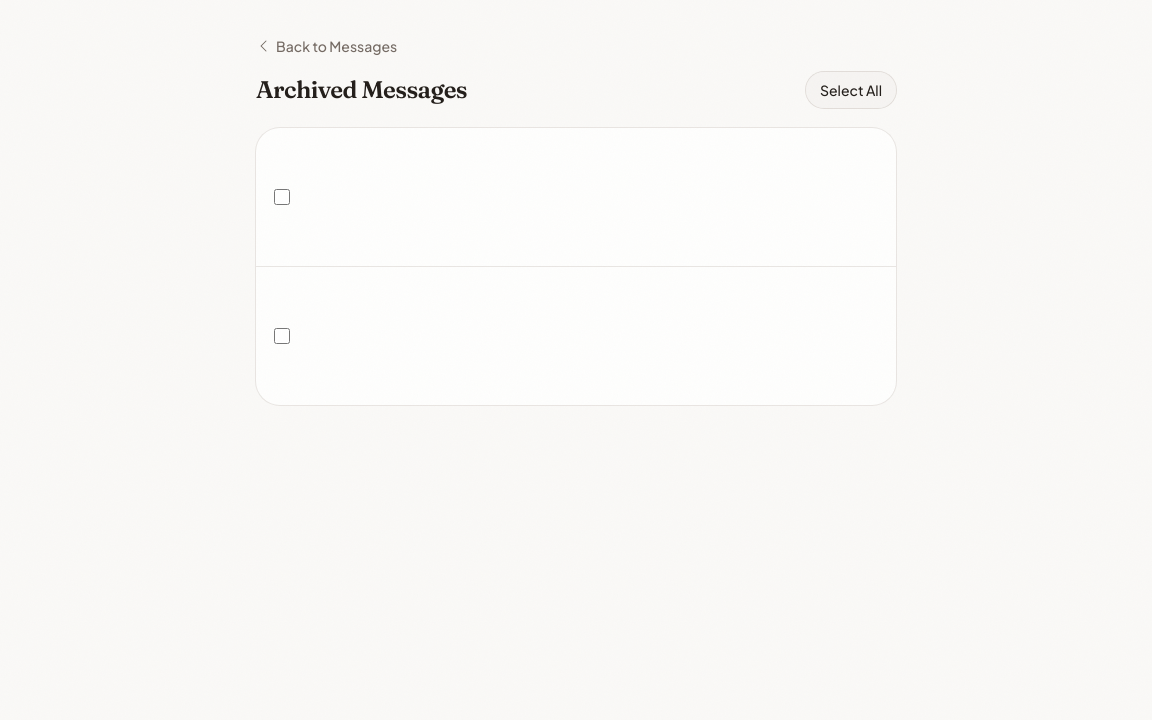
Scenario: MessagesPage - archived view › cancelling the confirm dialog deletes nothing
Click the checkbox named "Select conversation about Old Lamp".
click(282, 197)  # box [274, 189, 290, 205]
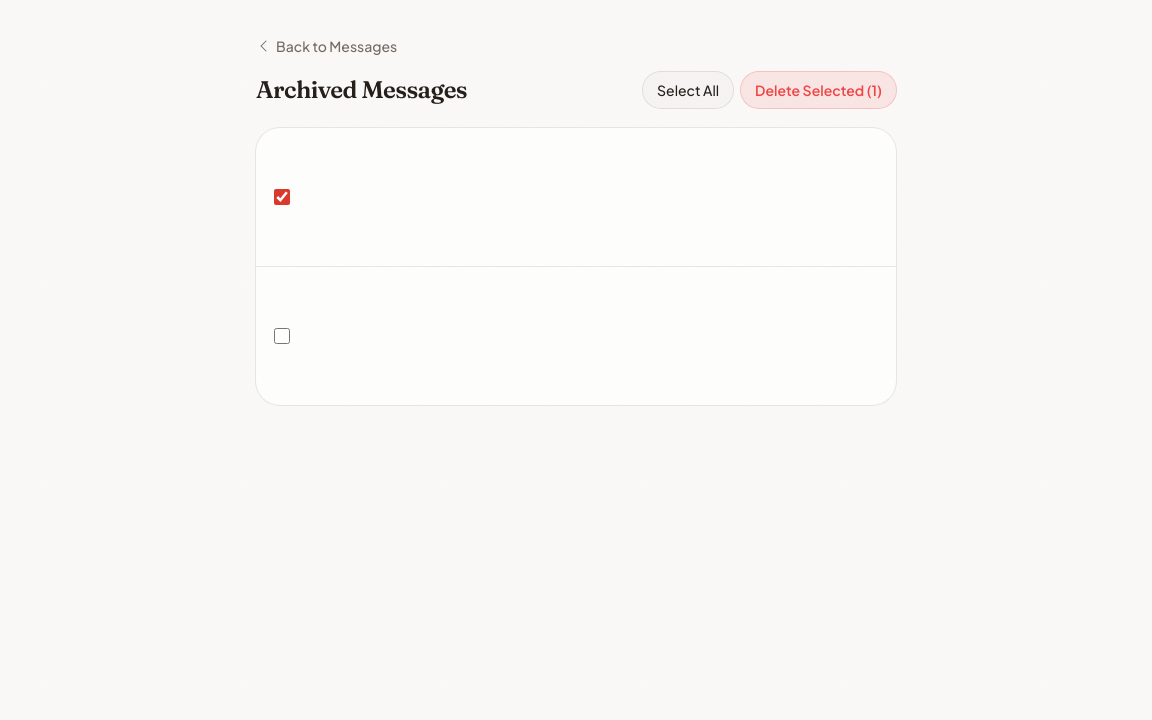
Click the button "Delete Selected (1)".
click(818, 90)  # box [741, 72, 896, 108]
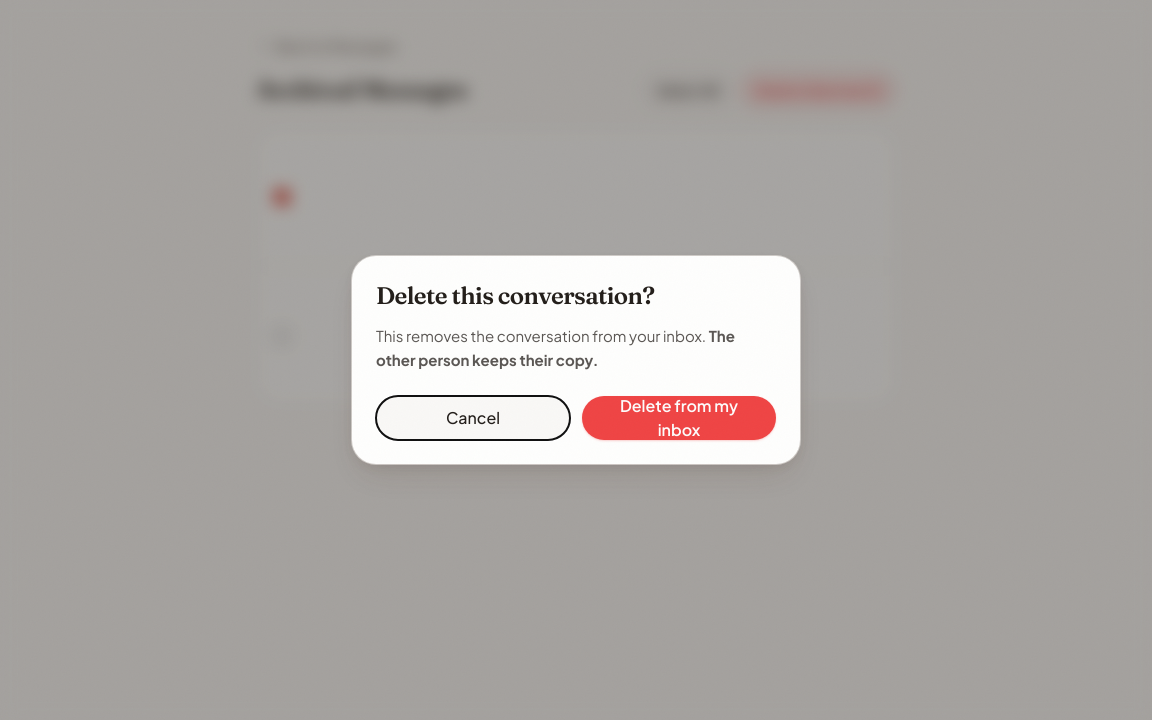
Click the button "Cancel".
click(473, 418)  # box [376, 396, 570, 440]
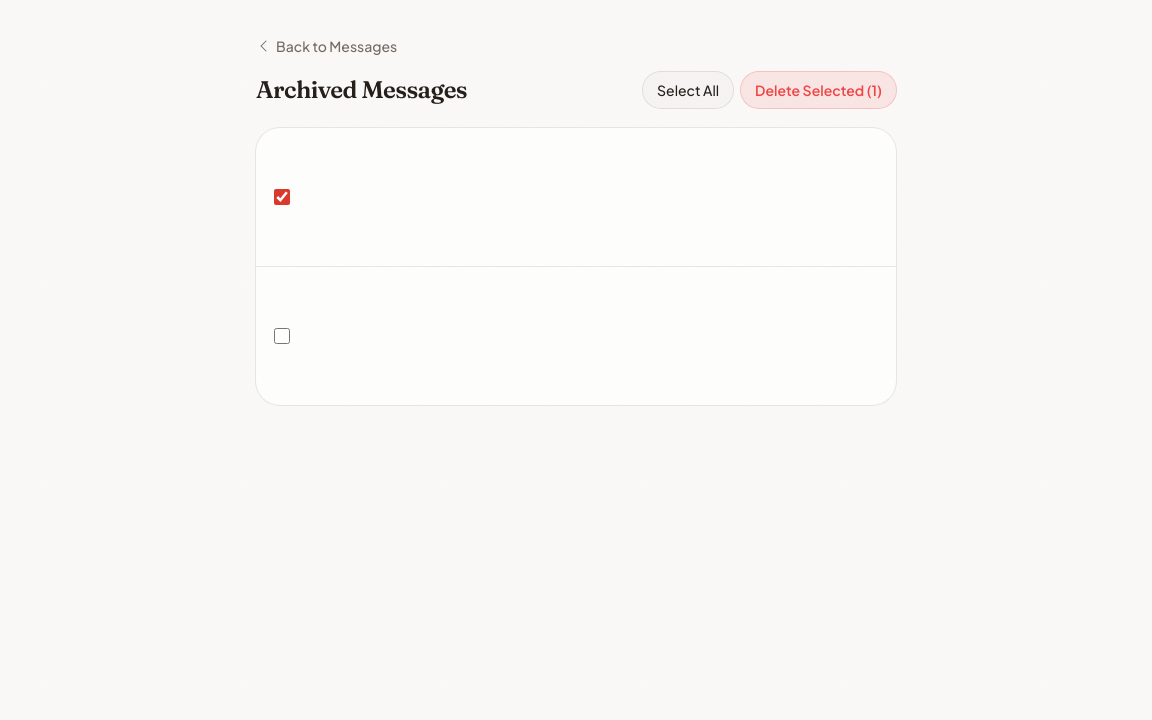
Expected: the dialog is gone
